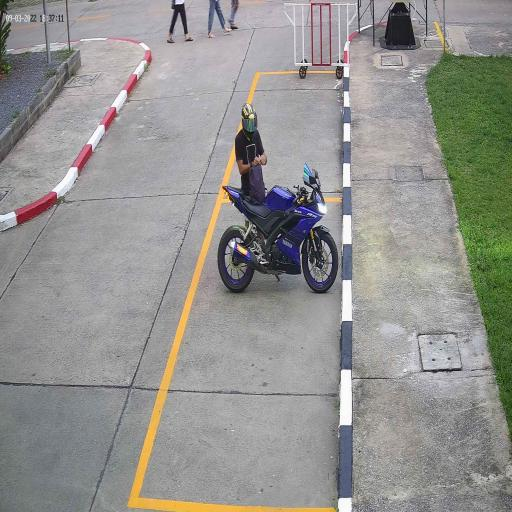motorcycle: (216, 184, 340, 296)
